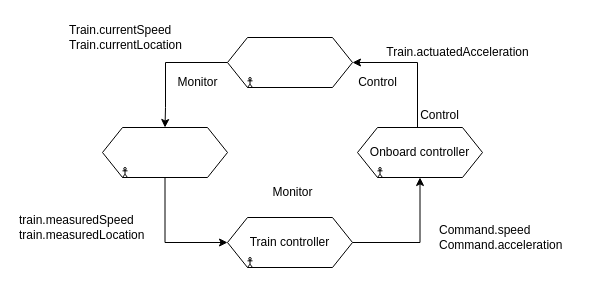
This 604x285 diagram has some shape labels left out. Each missing label, with the box of its shape:
Tracking system: (102, 126, 228, 178)
Train actuator: (226, 36, 352, 88)
